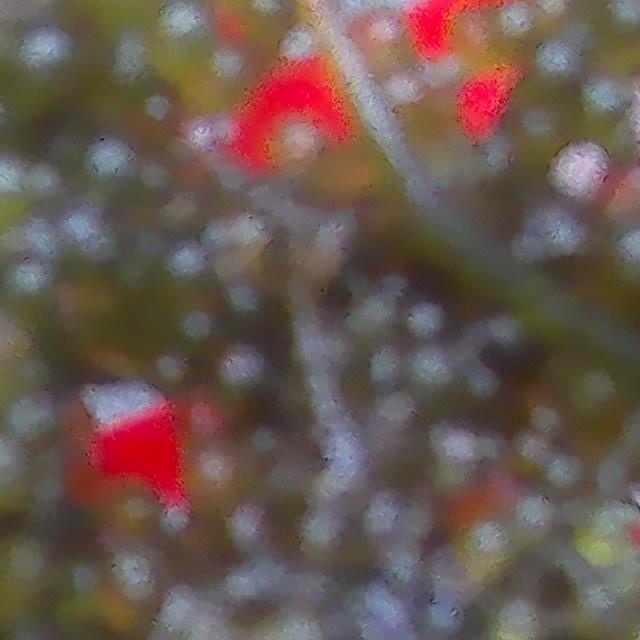SeaGrape: (89, 556, 166, 631), (182, 445, 258, 507), (11, 28, 69, 104), (105, 495, 170, 560)
